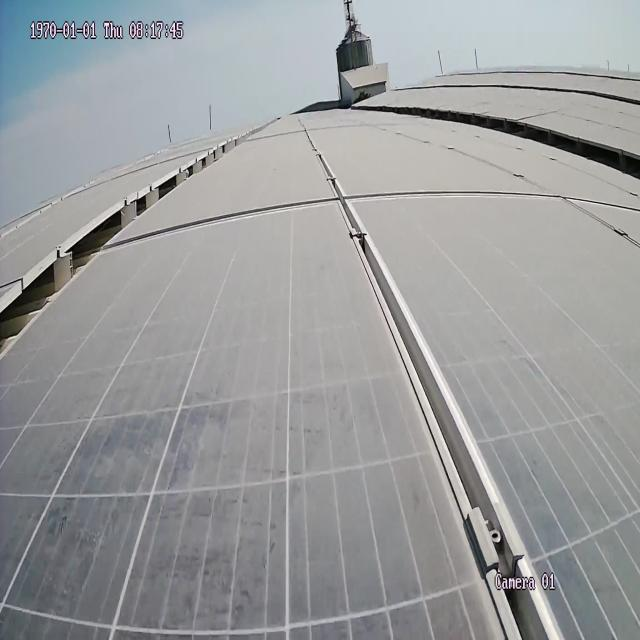interior panel: (309, 146, 557, 624), (126, 187, 636, 254)
outher panel: (0, 130, 252, 366), (371, 100, 636, 189)
